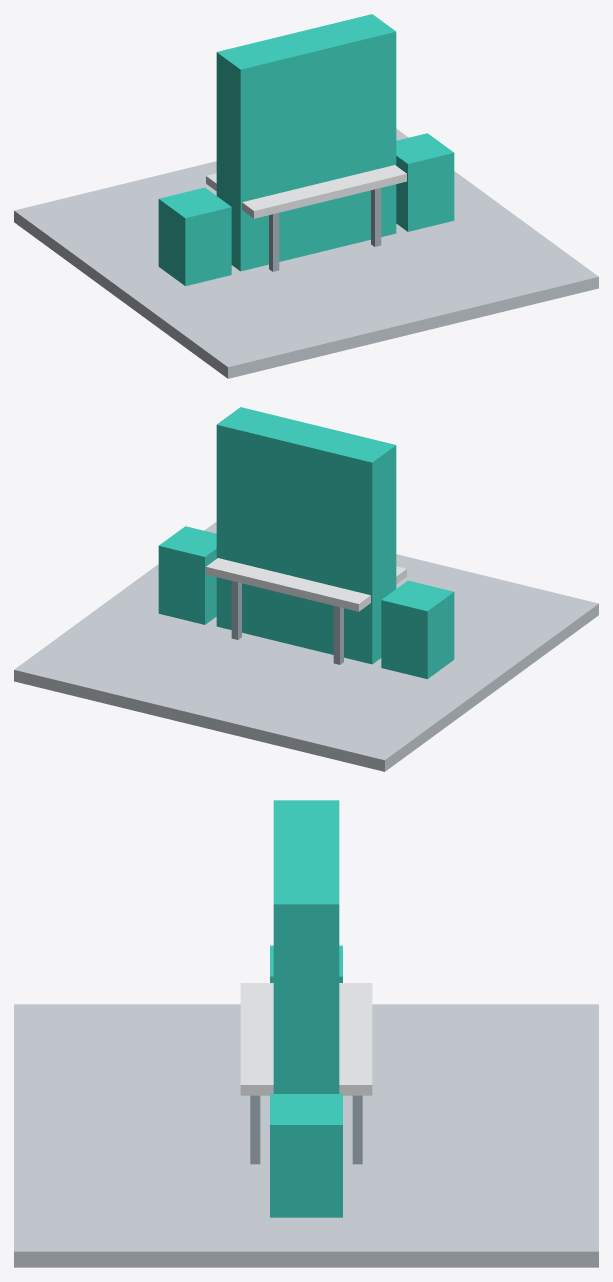
3 renders of one model, top to bottom at view 1: azimuth 30°, elevation 25°; view 2: azimuth 150°, elevation 25°; view 3: azimuth 270°, elevation 25°, orthographic. The views are drawn at different scales.
Visible parts, largest first — view 1: Exhibition Booth Concept; view 2: Exhibition Booth Concept; view 3: Exhibition Booth Concept.
Boxes of the visible parts, x1,y1,x2,y2 form: Exhibition Booth Concept: (14, 14, 598, 378); Exhibition Booth Concept: (14, 407, 598, 771); Exhibition Booth Concept: (14, 800, 598, 1267).
Bounding box in the file's own units: 4 × 2.2 × 4.
